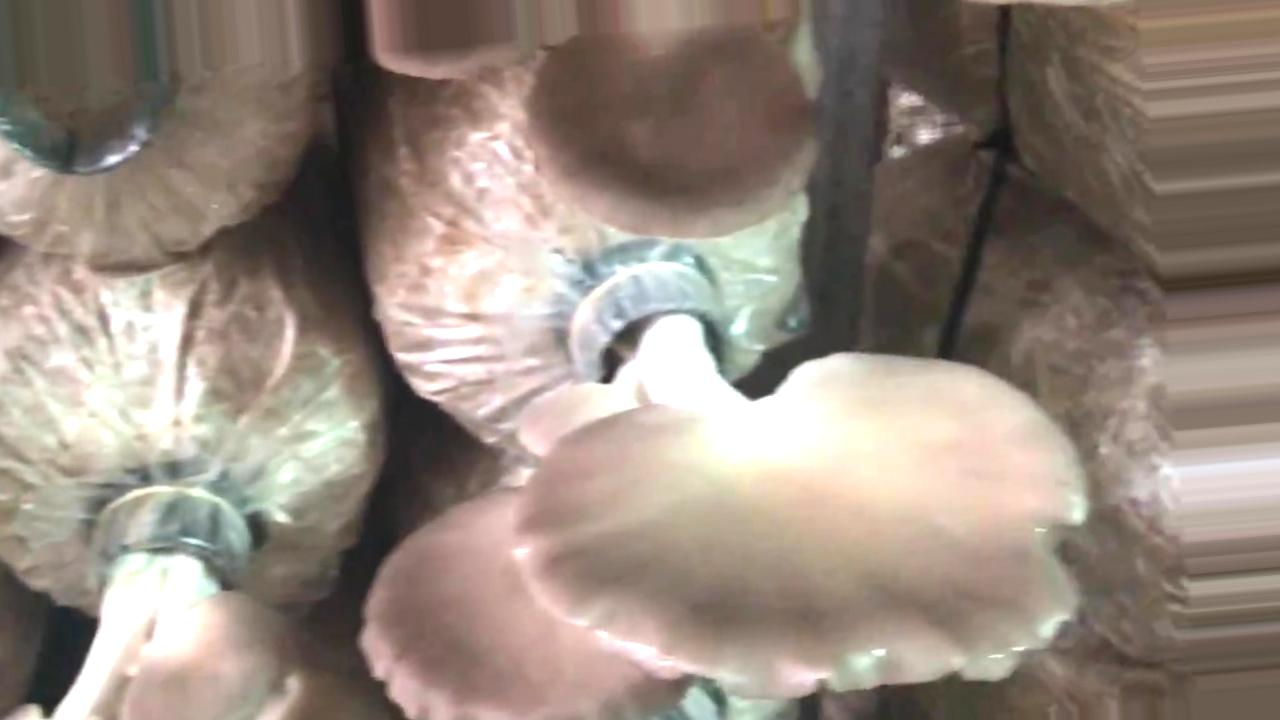nam: (507, 241, 1091, 699), (357, 482, 687, 720), (524, 12, 821, 245)
